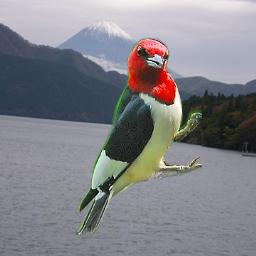Woodpecker: (72, 37, 202, 235)
